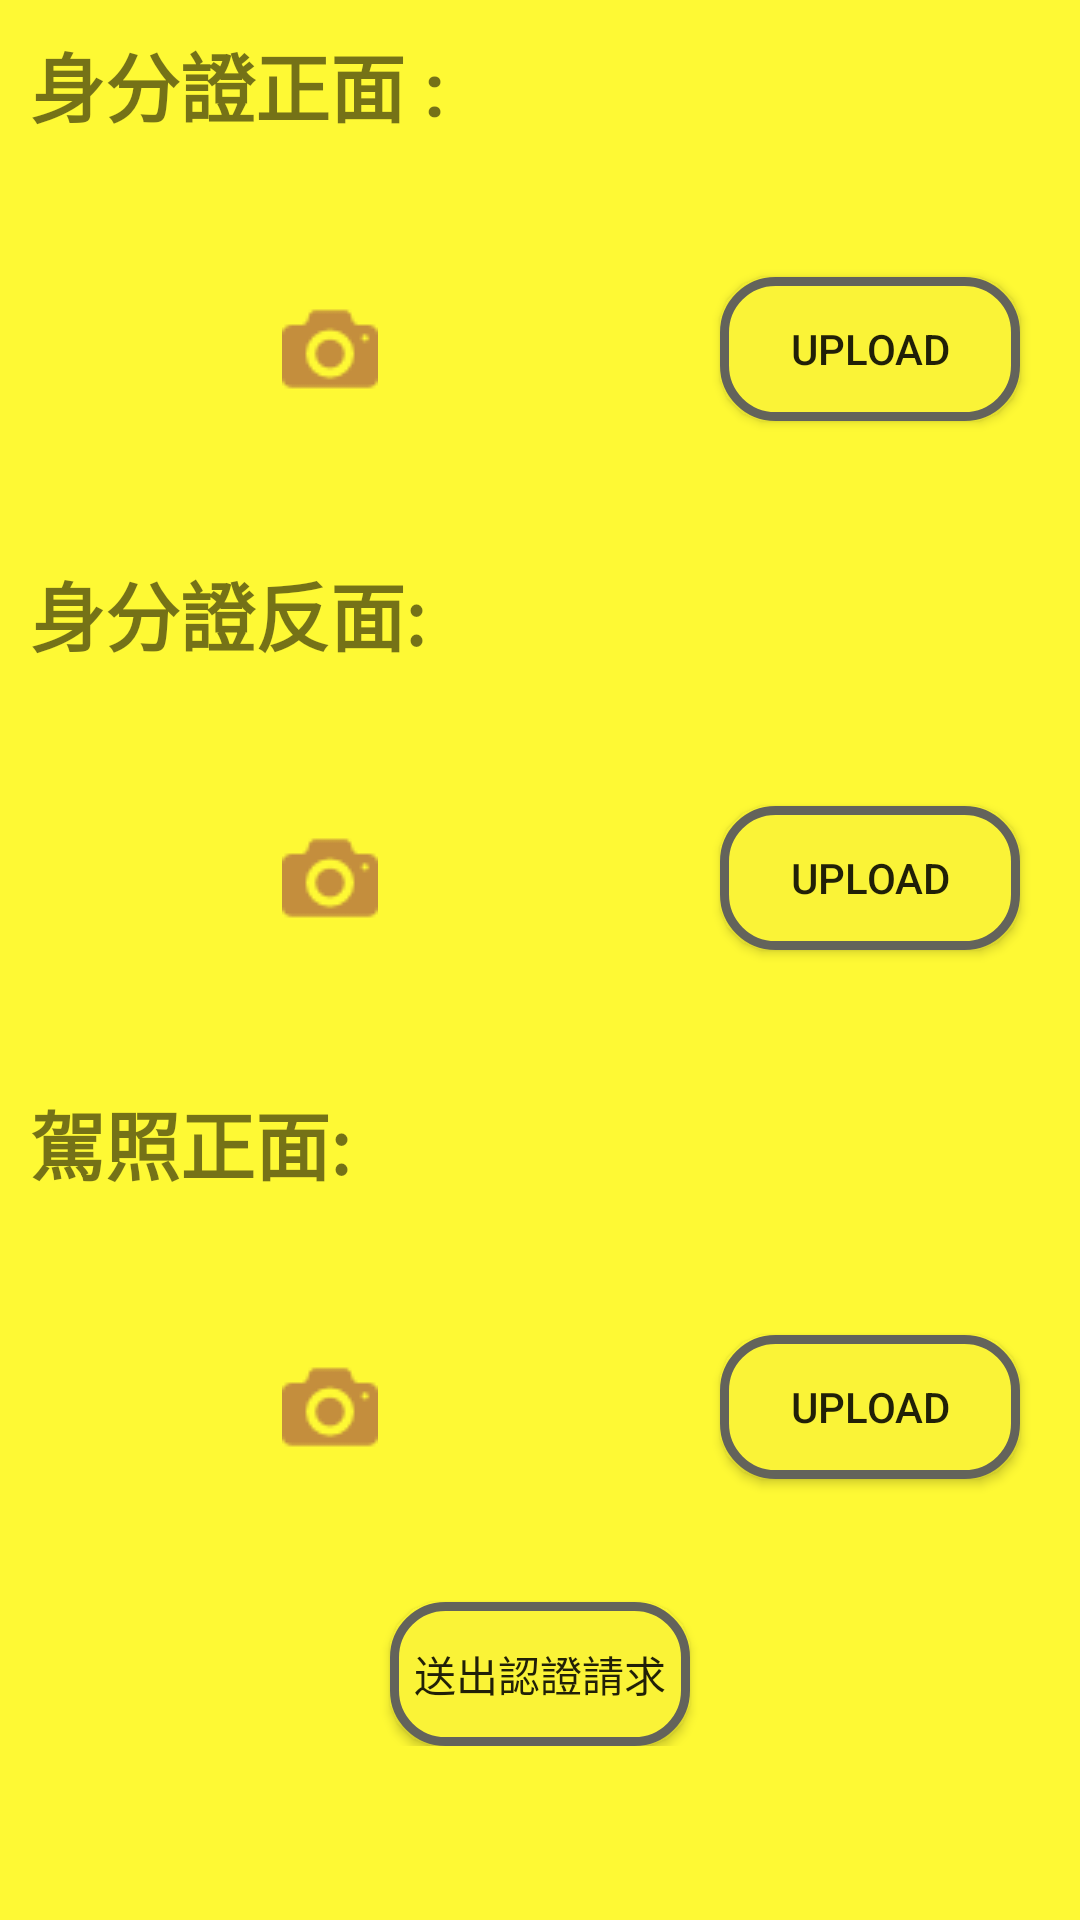

Icon bounding boxes for this 1080×1920 phone screenshot, format (x1, y1, x2, y2):
camera: (282, 309, 378, 389), (282, 838, 378, 918), (282, 1367, 378, 1447)
